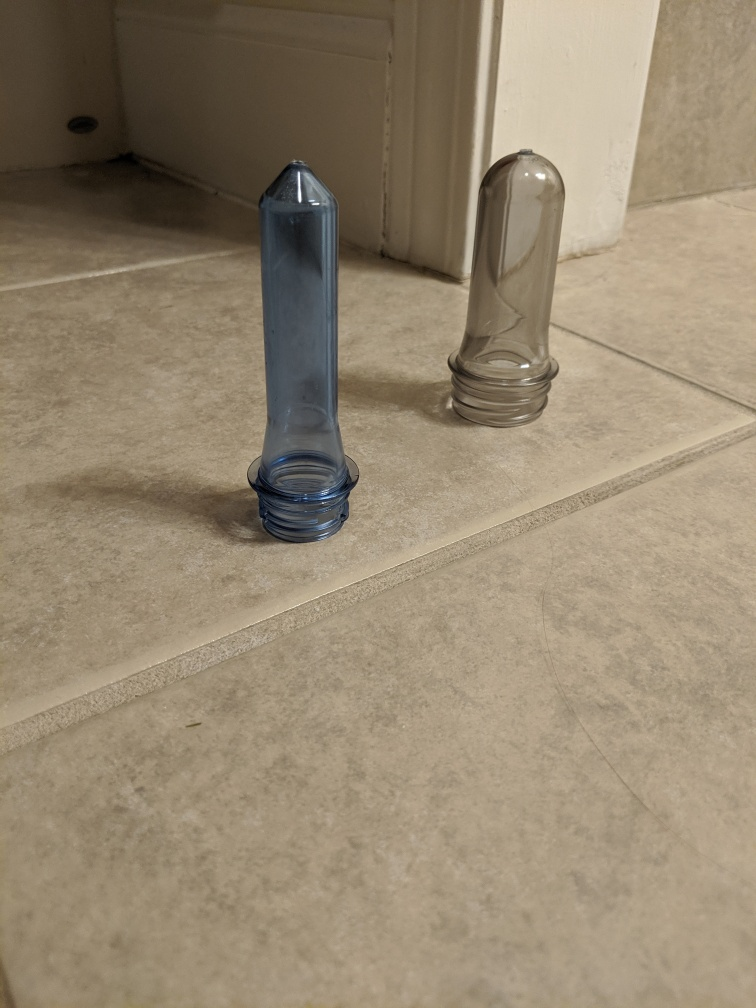preform: (244, 150, 365, 550), (442, 141, 570, 434)
